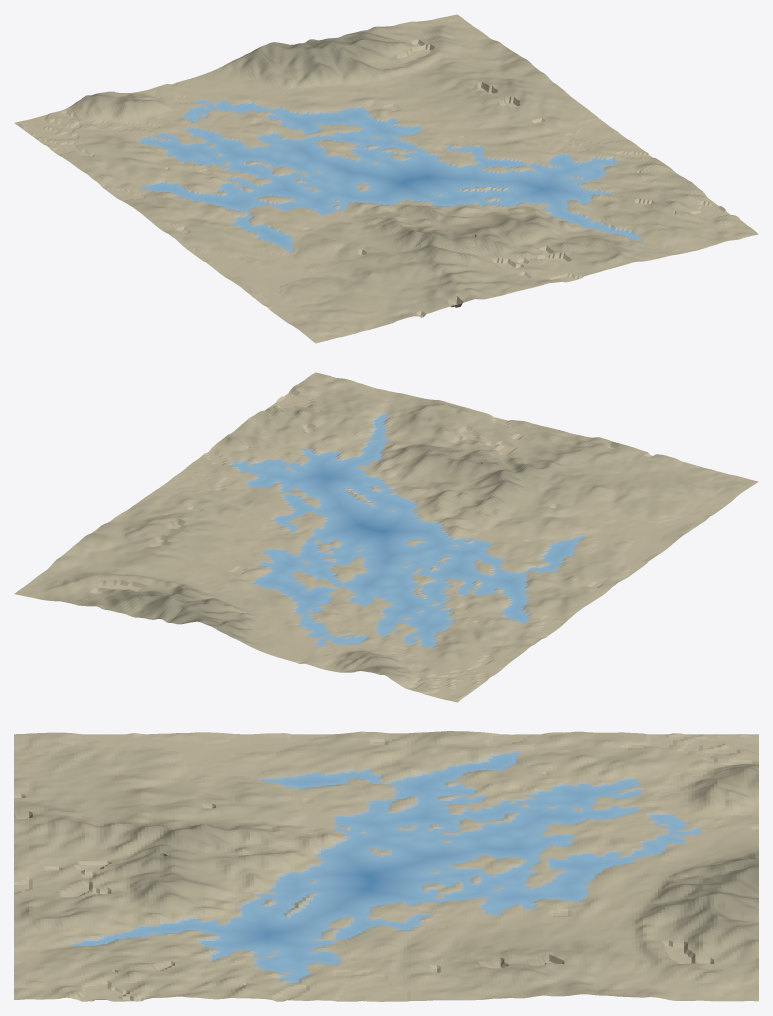
Rendered from lake_winnipesaukee_nh.glb.
3 views of the same model, one above another, from view 1: azimuth 30°, elevation 25°; view 2: azimuth 150°, elevation 25°; view 3: azimuth 270°, elevation 25° (orthographic). The views are drawn at different scales.
Visible parts, largest first — view 1: terrain, water; view 2: terrain, water; view 3: terrain, water.
Part boxes in pixels (x1,y1,x2,y2): terrain: (14, 14, 758, 343); water: (139, 100, 641, 251); terrain: (14, 372, 758, 702); water: (232, 414, 583, 647); terrain: (14, 731, 758, 1001); water: (74, 753, 698, 982).
Bounding box in the file's own units: 29653 × 1267 × 34933.
